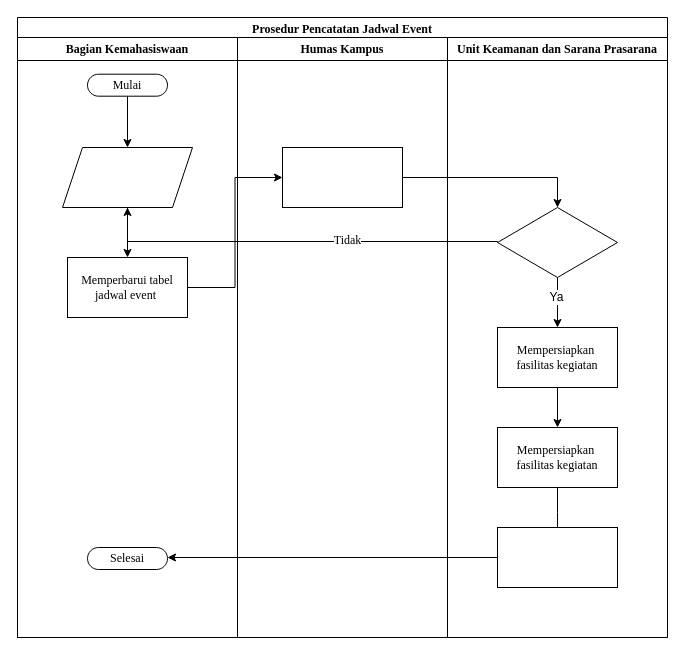
This 685x655 diagram has some shape labels left out. Each missing label, with the box of its shape:
Mengecek ketersediaan ruangan: (496, 206, 618, 278)
Menginput jadwal k e kalender internal: (62, 146, 192, 208)
Menjadwalkan penggunaan: (496, 526, 618, 588)
Menyiapkan konten publikasi: (282, 146, 402, 208)
